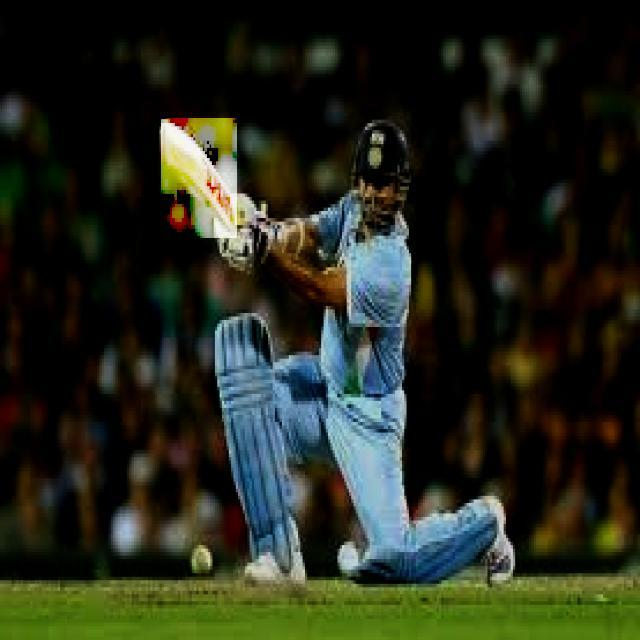bat: (162, 116, 236, 233)
toe: (160, 118, 173, 160)
